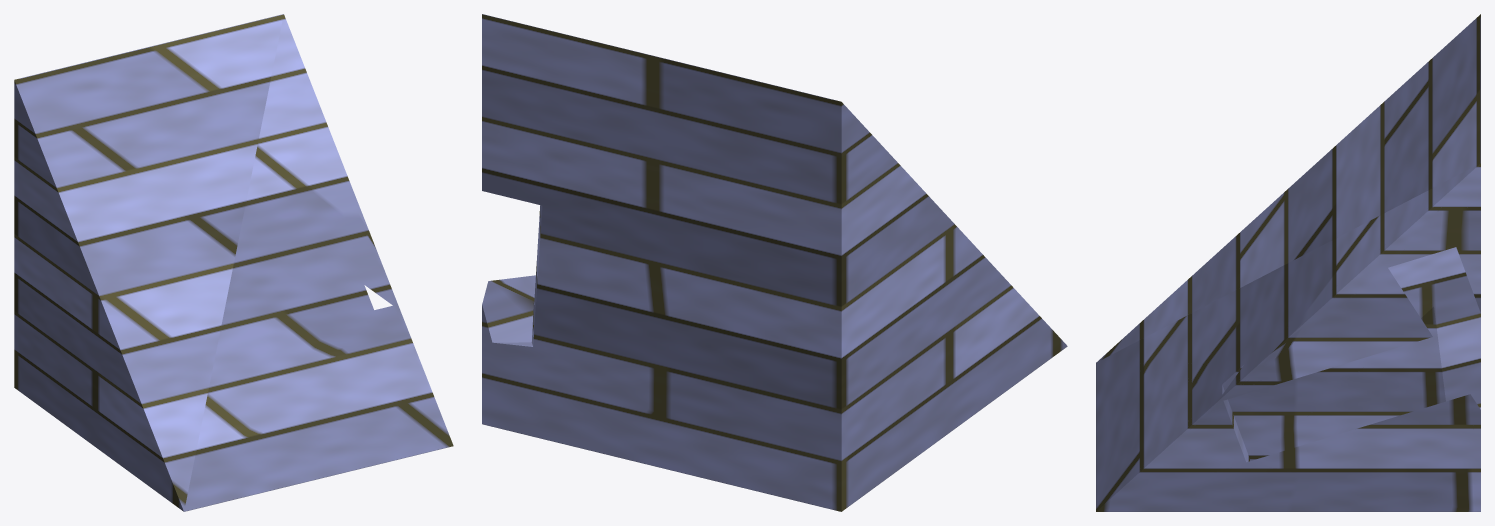
The picture shows the model from 3 angles, left to right: view 1: azimuth 30°, elevation 25°; view 2: azimuth 150°, elevation 25°; view 3: azimuth 270°, elevation 25°; orthographic projection. The views are drawn at different scales.
Visible parts, largest first — view 1: geometry_0; view 2: geometry_0; view 3: geometry_0.
Boxes of the visible parts, <box> form: geometry_0: <box>14,14,453,511</box>; geometry_0: <box>482,14,1067,511</box>; geometry_0: <box>1096,14,1480,511</box>.
Size of the model in its own units: 0.8515 by 0.9289 by 0.9289.
1 material, 1 textured.
